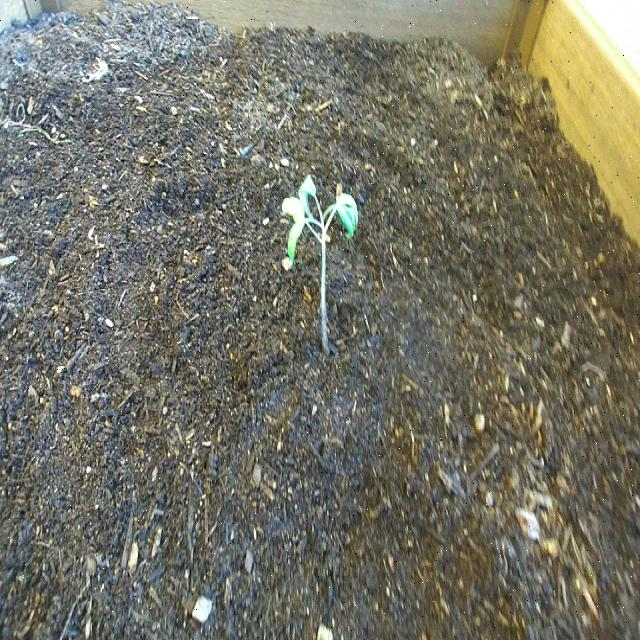Healthy: (279, 171, 361, 361)
